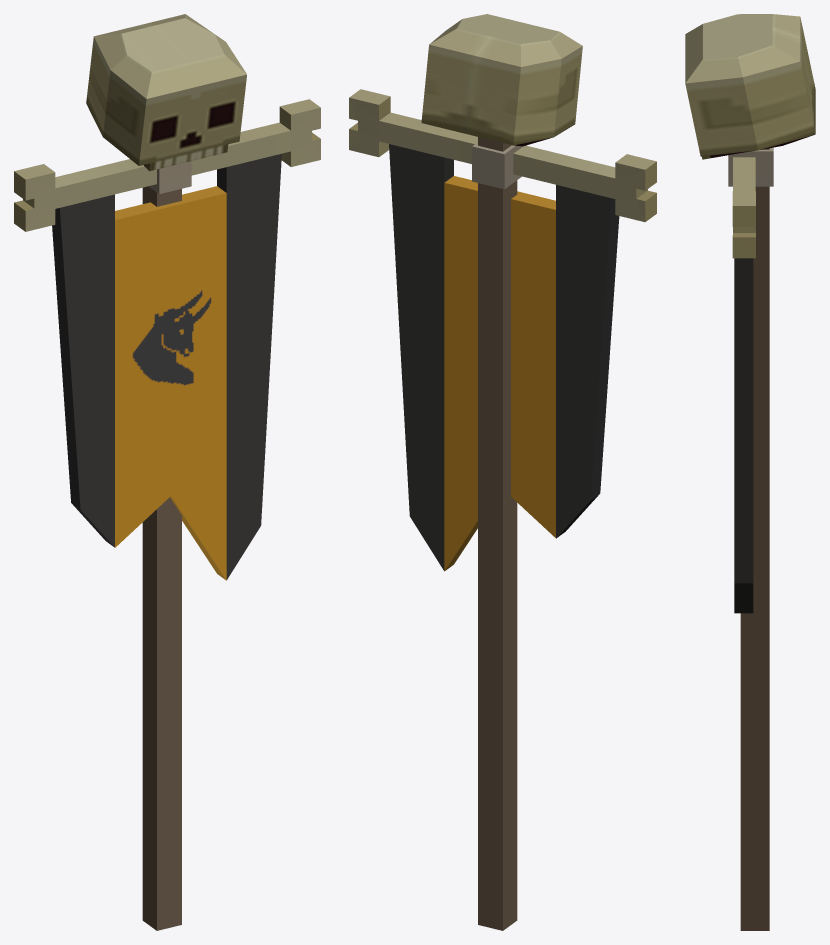
The model's file is Flag_08.gltf.
The picture shows the model from 3 angles, left to right: view 1: azimuth 30°, elevation 25°; view 2: azimuth 150°, elevation 25°; view 3: azimuth 270°, elevation 25°; orthographic projection.
Parts seen in each view (by area): view 1: SF_Prop_Flag_08; view 2: SF_Prop_Flag_08; view 3: SF_Prop_Flag_08.
Part boxes in pixels (left/top/right/bottom): SF_Prop_Flag_08: left=14, top=14, right=320, bottom=930; SF_Prop_Flag_08: left=349, top=14, right=656, bottom=930; SF_Prop_Flag_08: left=685, top=14, right=815, bottom=930.
Size of the model in its own units: 0.0157 by 0.0452 by 0.00596.
Materials: 1 (1 with a texture image).
